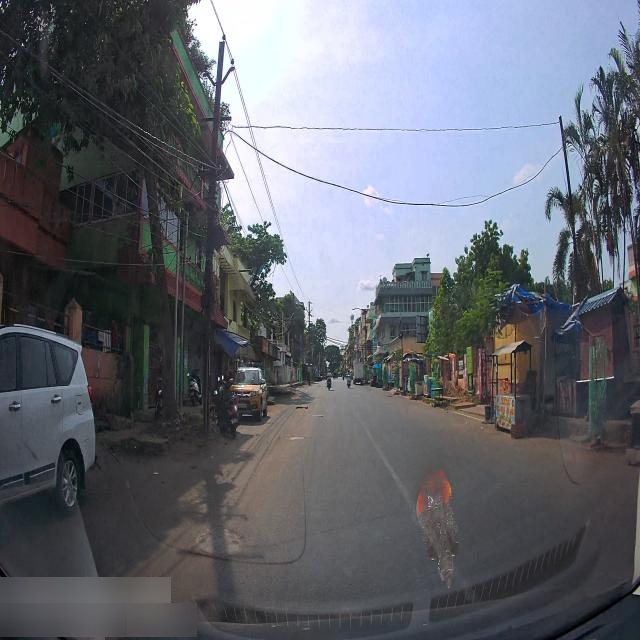pothole: (287, 427, 311, 446)
